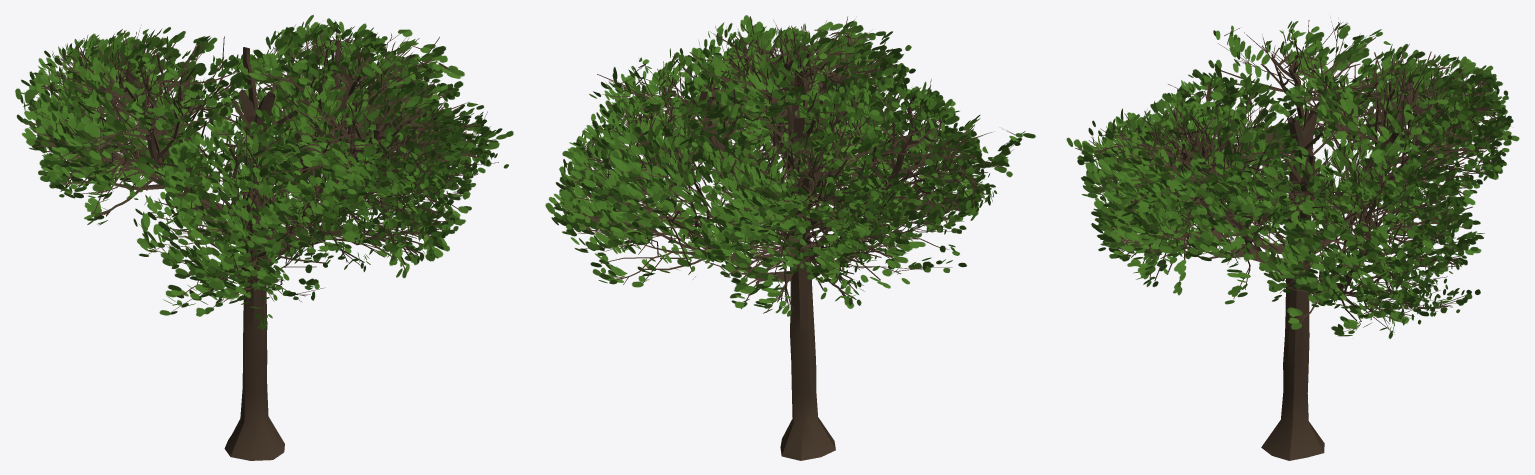
3 renders of one model, left to right at view 1: azimuth 30°, elevation 25°; view 2: azimuth 150°, elevation 25°; view 3: azimuth 270°, elevation 25°, orthographic. The views are drawn at different scales.
Parts seen in each view (by area): view 1: oak 01.001_trunk_Mat.001_0.037; view 2: oak 01.001_trunk_Mat.001_0.037; view 3: oak 01.001_trunk_Mat.001_0.037.
Boxes of the visible parts, x1=… form: oak 01.001_trunk_Mat.001_0.037: x1=15, y1=14, x2=513, y2=460; oak 01.001_trunk_Mat.001_0.037: x1=545, y1=15, x2=1035, y2=460; oak 01.001_trunk_Mat.001_0.037: x1=1066, y1=20, x2=1519, y2=460.
Bounding box in the file's own units: 4.8 × 4.02 × 4.67.
Materials: 2 (1 with a texture image).
